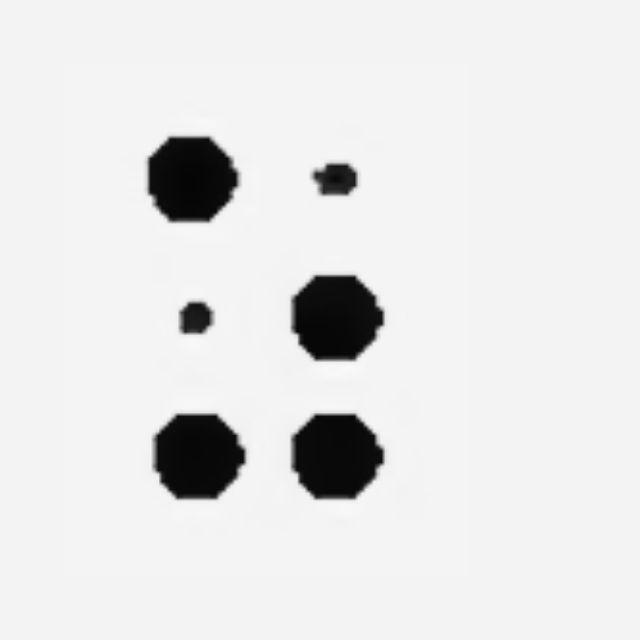sa: (147, 135, 385, 501)
